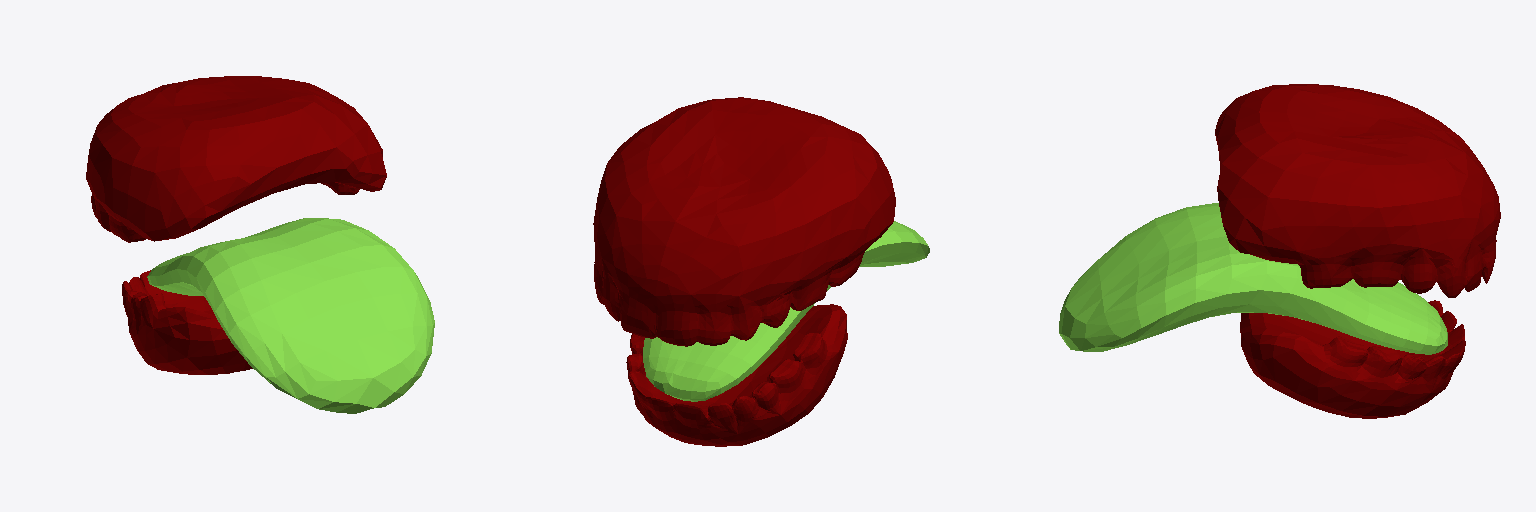
File: Jaw_obj.obj
3 views of the same model, side by side, from view 1: azimuth 30°, elevation 25°; view 2: azimuth 150°, elevation 25°; view 3: azimuth 270°, elevation 25° (orthographic).
Parts seen in each view (by area): view 1: tongue, teeth_top, teeth_bottom; view 2: teeth_top, teeth_bottom, tongue; view 3: teeth_top, tongue, teeth_bottom.
Boxes of the visible parts, x1=… form: tongue: x1=147, y1=218, x2=434, y2=413; teeth_top: x1=86, y1=76, x2=386, y2=242; teeth_bottom: x1=122, y1=270, x2=252, y2=374; teeth_top: x1=593, y1=97, x2=895, y2=346; teeth_bottom: x1=626, y1=304, x2=847, y2=446; tongue: x1=643, y1=221, x2=929, y2=401; teeth_top: x1=1215, y1=84, x2=1500, y2=297; tongue: x1=1059, y1=203, x2=1447, y2=354; teeth_bottom: x1=1240, y1=300, x2=1465, y2=418.
Bounding box in the file's own units: 0.4688 × 0.509 × 0.7107.